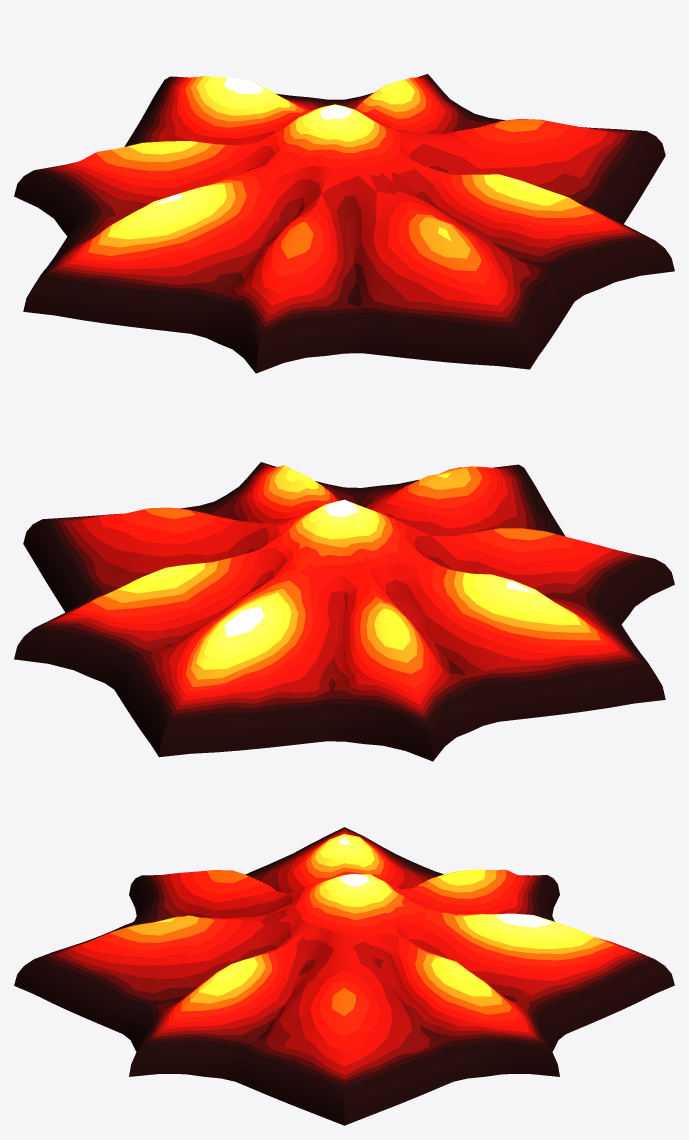
Rendered from lava_star.glb.
3 renders of one model, top to bottom at view 1: azimuth 30°, elevation 25°; view 2: azimuth 150°, elevation 25°; view 3: azimuth 270°, elevation 25°, orthographic. The views are drawn at different scales.
Visible parts, largest first — view 1: lava_star; view 2: lava_star; view 3: lava_star.
Boxes of the visible parts, <box> form: lava_star: <box>14,74,674,373</box>; lava_star: <box>14,462,674,761</box>; lava_star: <box>14,827,674,1125</box>.
Size of the model in its own units: 23 by 7.6 by 23.
